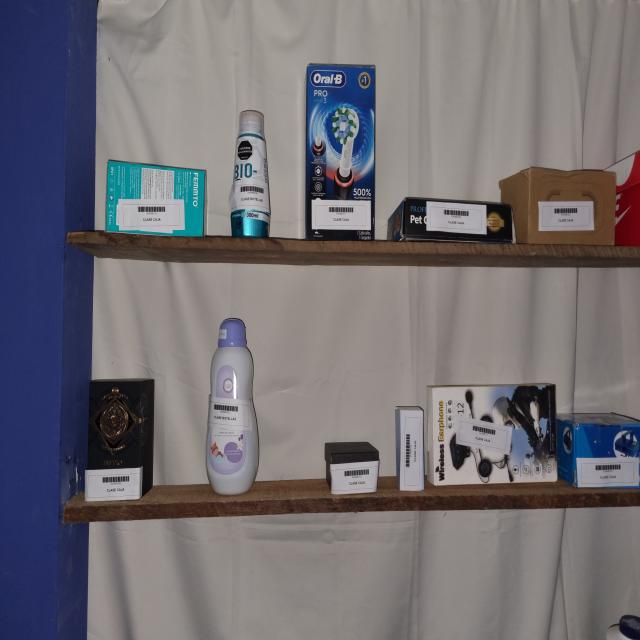botella: (206, 318, 259, 495), (229, 110, 270, 238), (605, 614, 640, 640)
caja: (426, 383, 557, 485), (305, 64, 375, 240), (499, 167, 616, 246), (80, 378, 154, 501), (106, 160, 206, 236), (557, 411, 640, 490), (387, 197, 516, 245), (601, 149, 640, 230), (325, 442, 379, 494), (395, 406, 424, 491)
